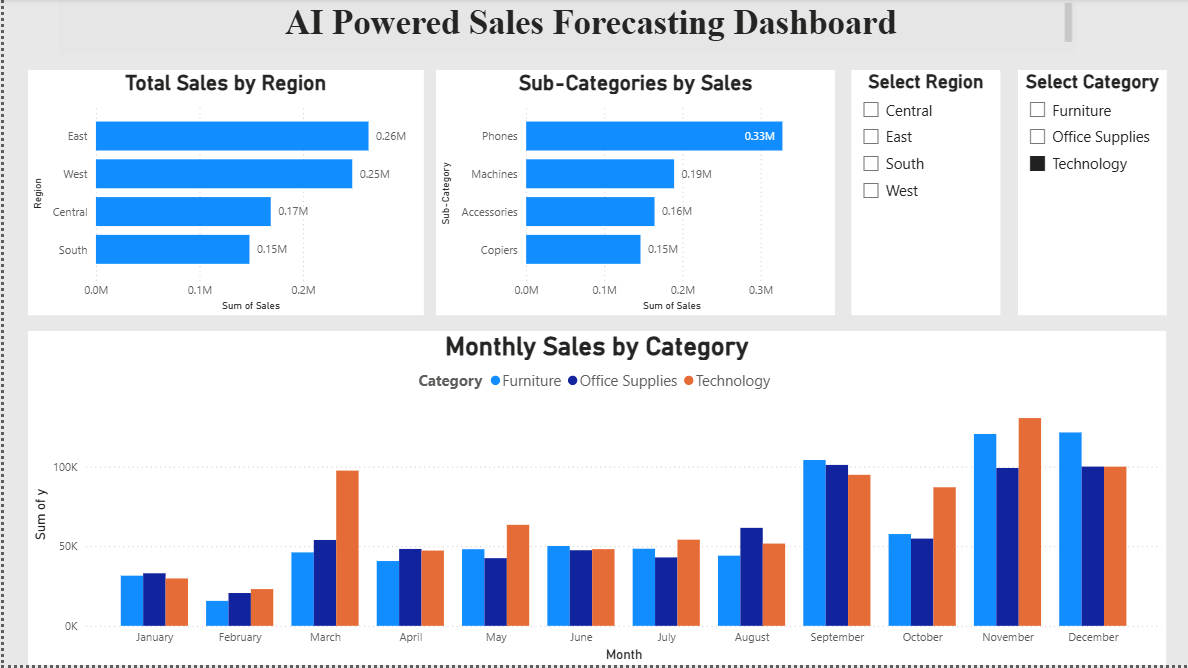

This screenshot's page, from the dashboard's own definition file:
{"tool":"powerbi","page":{"name":"Page 2","canvas":[1280,720],"ordinal":1},"visuals":[{"type":"clusteredColumnChart","title":"Monthly Sales by Category","fields":{"Category":["monthly_category_sales.ds.Variation.Date Hierarchy.Month"],"Y":["Sum(monthly_category_sales.y)"],"Series":["monthly_category_sales.Category"]},"box":[26.5,359.1,1228.4,360.9],"z":0},{"type":"clusteredBarChart","title":"Sub-Categories by Sales","fields":{"Category":["Superstore.Sub-Category"],"Y":["Sum(Superstore.Sales)"]},"box":[466.8,77.5,430.9,264.6],"z":1},{"type":"clusteredBarChart","title":"Total Sales by Region","fields":{"Category":["Superstore.Region"],"Y":["Sum(Superstore.Sales)"]},"box":[26.5,77.5,427.1,264.6],"z":2},{"type":"slicer","title":"Select Category ","fields":{"Values":["Superstore.Category"]},"box":[1094.2,77.5,160.6,264.6],"z":3},{"type":"slicer","title":"Select Region ","fields":{"Values":["Superstore.Region"]},"box":[914.7,77.5,160.6,264.6],"z":4},{"type":"textbox","box":[58.6,0,1099.9,60.5],"z":5}]}

Visuals, with their boxes in screenshot pixels (x1, y1, x2, y2), scaled from the page's 1280x720 canvas onto the 1188x668 screenshot:
"Monthly Sales by Category" clusteredColumnChart: x1=25, y1=333, x2=1165, y2=667
"Sub-Categories by Sales" clusteredBarChart: x1=433, y1=72, x2=833, y2=317
"Total Sales by Region" clusteredBarChart: x1=25, y1=72, x2=421, y2=317
"Select Category " slicer: x1=1016, y1=72, x2=1165, y2=317
"Select Region " slicer: x1=849, y1=72, x2=998, y2=317
textbox: x1=54, y1=0, x2=1075, y2=56
